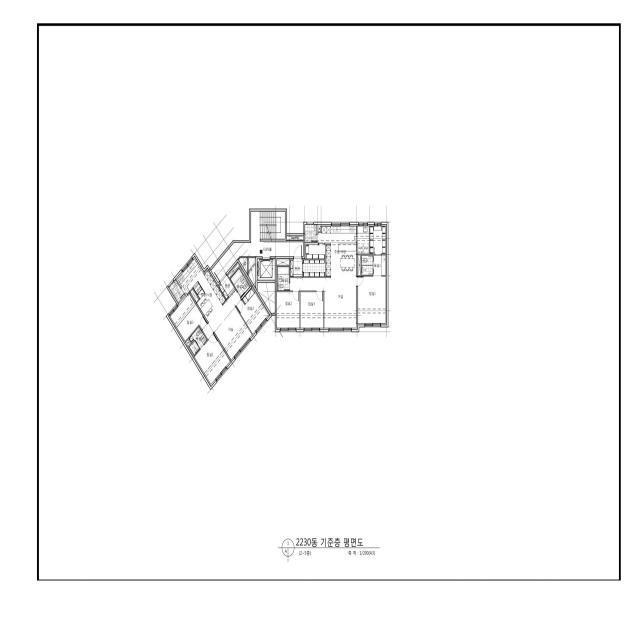space_balconi: (169, 279, 186, 304), (305, 225, 316, 243)
space_bedroom: (194, 334, 231, 386), (168, 294, 207, 342), (236, 287, 270, 335), (358, 277, 386, 325), (277, 292, 300, 329), (301, 292, 323, 329)
space_dressroom: (370, 225, 386, 254)
space_elevator: (257, 259, 275, 280)
space_elevator_hall: (211, 241, 303, 282)
space_front: (218, 276, 236, 299), (290, 259, 302, 278)
space_kitchen: (176, 257, 226, 322), (318, 225, 356, 277)
space_living_room: (202, 290, 253, 361), (290, 277, 357, 329)
space_other: (257, 283, 275, 313), (303, 260, 325, 276), (357, 225, 369, 254), (305, 244, 325, 259), (248, 258, 255, 287), (228, 263, 240, 278), (239, 258, 247, 273), (190, 289, 199, 302), (277, 259, 289, 265), (287, 236, 303, 240), (358, 255, 361, 275), (185, 340, 190, 347), (318, 225, 321, 232)
space_staircase: (251, 211, 285, 242)
space_toilet: (230, 269, 250, 297), (189, 327, 207, 355), (361, 255, 386, 275), (277, 267, 289, 291)
